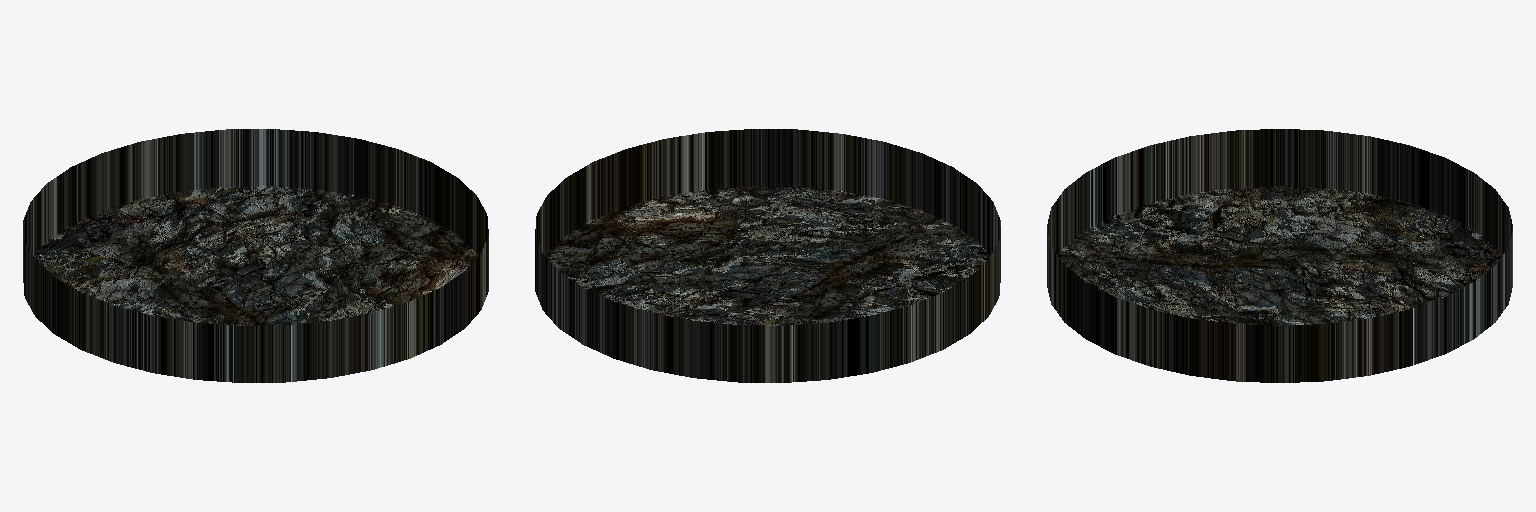
3 views of the same model, side by side, from view 1: azimuth 30°, elevation 25°; view 2: azimuth 150°, elevation 25°; view 3: azimuth 270°, elevation 25° (orthographic).
Parts seen in each view (by area): view 1: mesh1, mesh0; view 2: mesh1, mesh0; view 3: mesh1, mesh0.
Part boxes in pixels (x1,y1,x2,y2): mesh1: (23,129,488,382); mesh0: (34,186,477,325); mesh1: (535,129,1000,382); mesh0: (546,186,989,325); mesh1: (1047,129,1512,382); mesh0: (1058,186,1501,325).
Size of the model in its own units: 3616 by 491 by 3616.
2 materials, 1 textured.